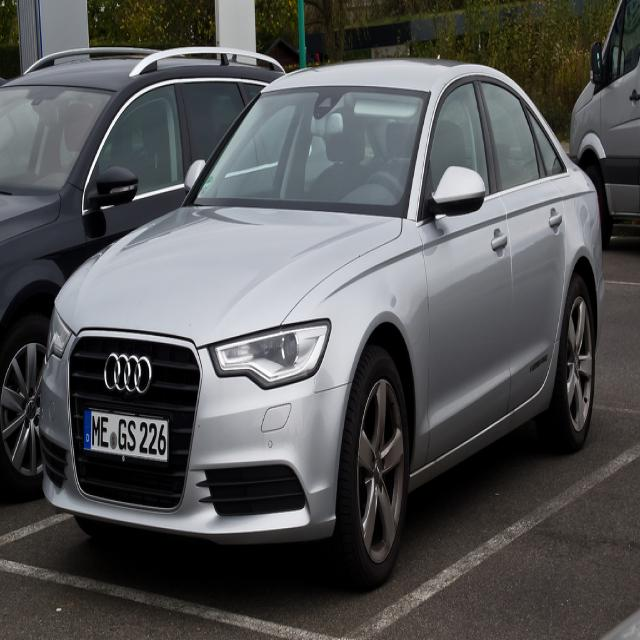car: (36, 63, 600, 588)
